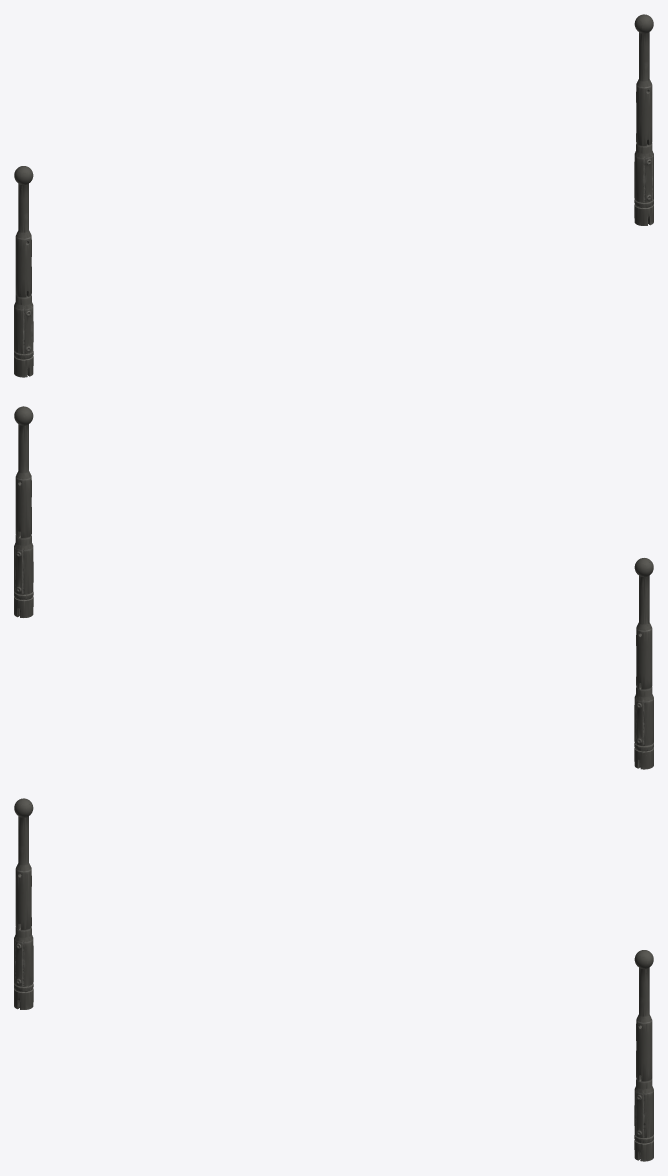
Rendered from piece_antenna_classic.glb.
3 views of the same model, one above another, from view 1: azimuth 30°, elevation 25°; view 2: azimuth 150°, elevation 25°; view 3: azimuth 330°, elevation 25° (orthographic).
Parts seen in each view (by area): view 1: trait_antenna_classic_right, trait_antenna_classic_left; view 2: trait_antenna_classic_left, trait_antenna_classic_right; view 3: trait_antenna_classic_left, trait_antenna_classic_right.
Part boxes in pixels (left/top/right/bottom): trait_antenna_classic_right: left=14, top=166, right=33, bottom=377; trait_antenna_classic_left: left=634, top=14, right=653, bottom=225; trait_antenna_classic_left: left=14, top=406, right=33, bottom=617; trait_antenna_classic_right: left=634, top=558, right=653, bottom=769; trait_antenna_classic_left: left=634, top=950, right=653, bottom=1161; trait_antenna_classic_right: left=14, top=798, right=33, bottom=1009.
Size of the model in its own units: 0.6168 by 0.1912 by 0.0176.
2 materials, 2 textured.
